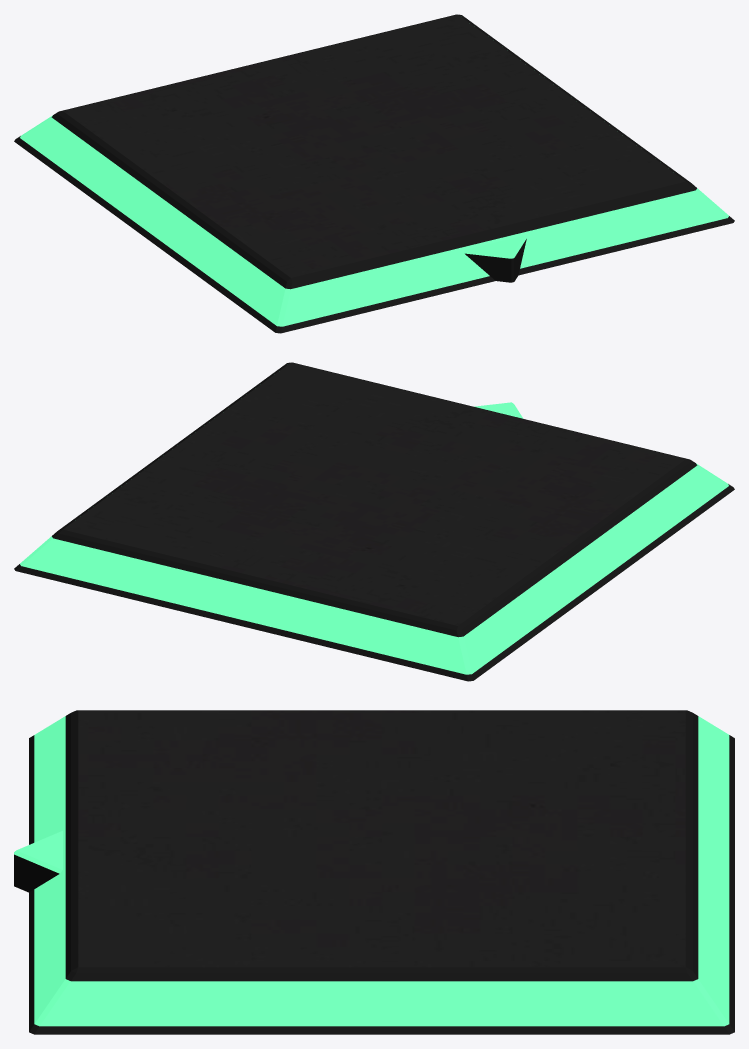
The model's file is jb2asquare1Indicator.glb.
The picture shows the model from 3 angles, top to bottom: view 1: azimuth 30°, elevation 25°; view 2: azimuth 150°, elevation 25°; view 3: azimuth 270°, elevation 25°; orthographic projection. The views are drawn at different scales.
Visible parts, largest first — view 1: base, ForwardMaker.005; view 2: base; view 3: base, ForwardMaker.005.
Part boxes in pixels (x1,y1,x2,y2): base: (14, 14, 734, 333); ForwardMaker.005: (464, 235, 526, 282); base: (14, 362, 734, 681); base: (29, 710, 734, 1034); ForwardMaker.005: (14, 831, 62, 892).
Bounding box in the file's own units: 2 × 0.1452 × 2.04.
3 materials, 1 textured.
